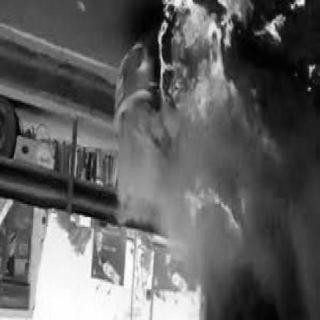Fire: (160, 4, 309, 250)
Smoke: (193, 201, 315, 317)
